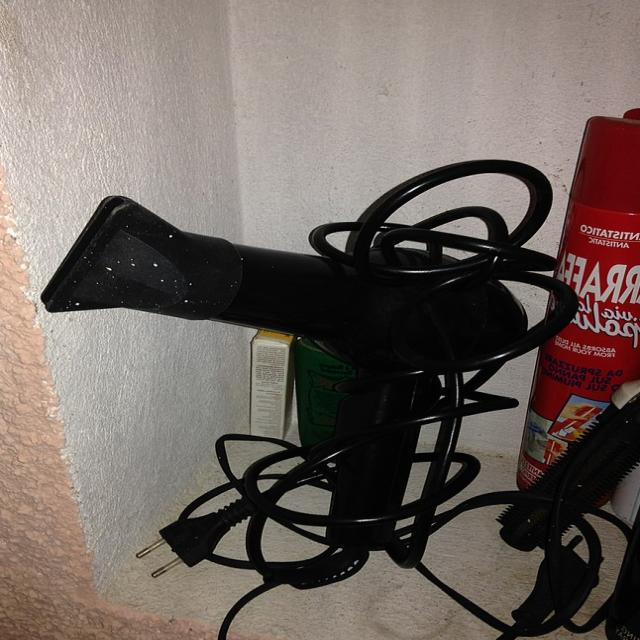dryer: (36, 190, 530, 552)
